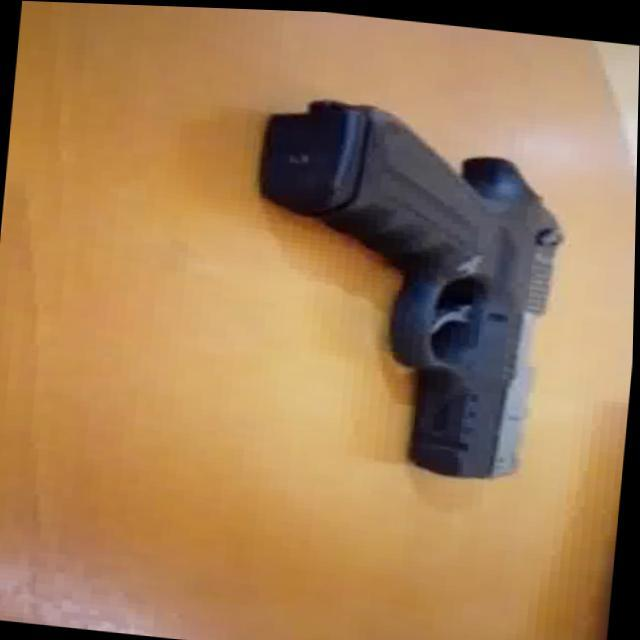weapon: (232, 88, 576, 482)
